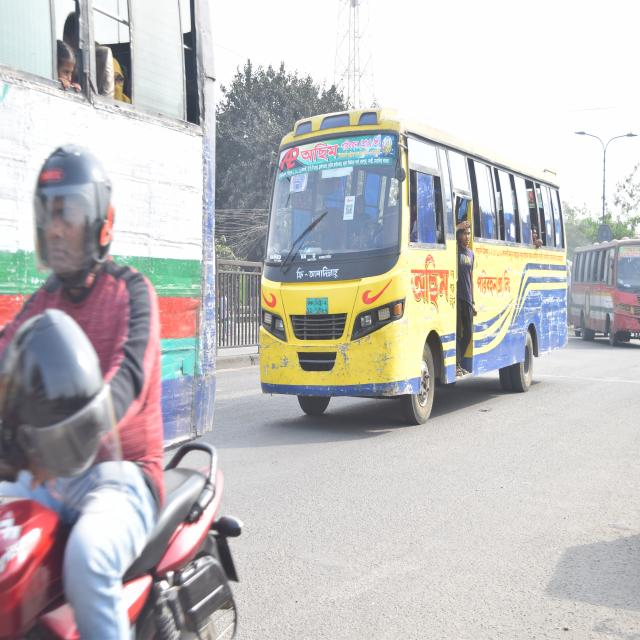bus: (0, 2, 227, 441), (263, 103, 562, 434), (570, 237, 640, 339)
motorbike: (0, 373, 237, 640)
